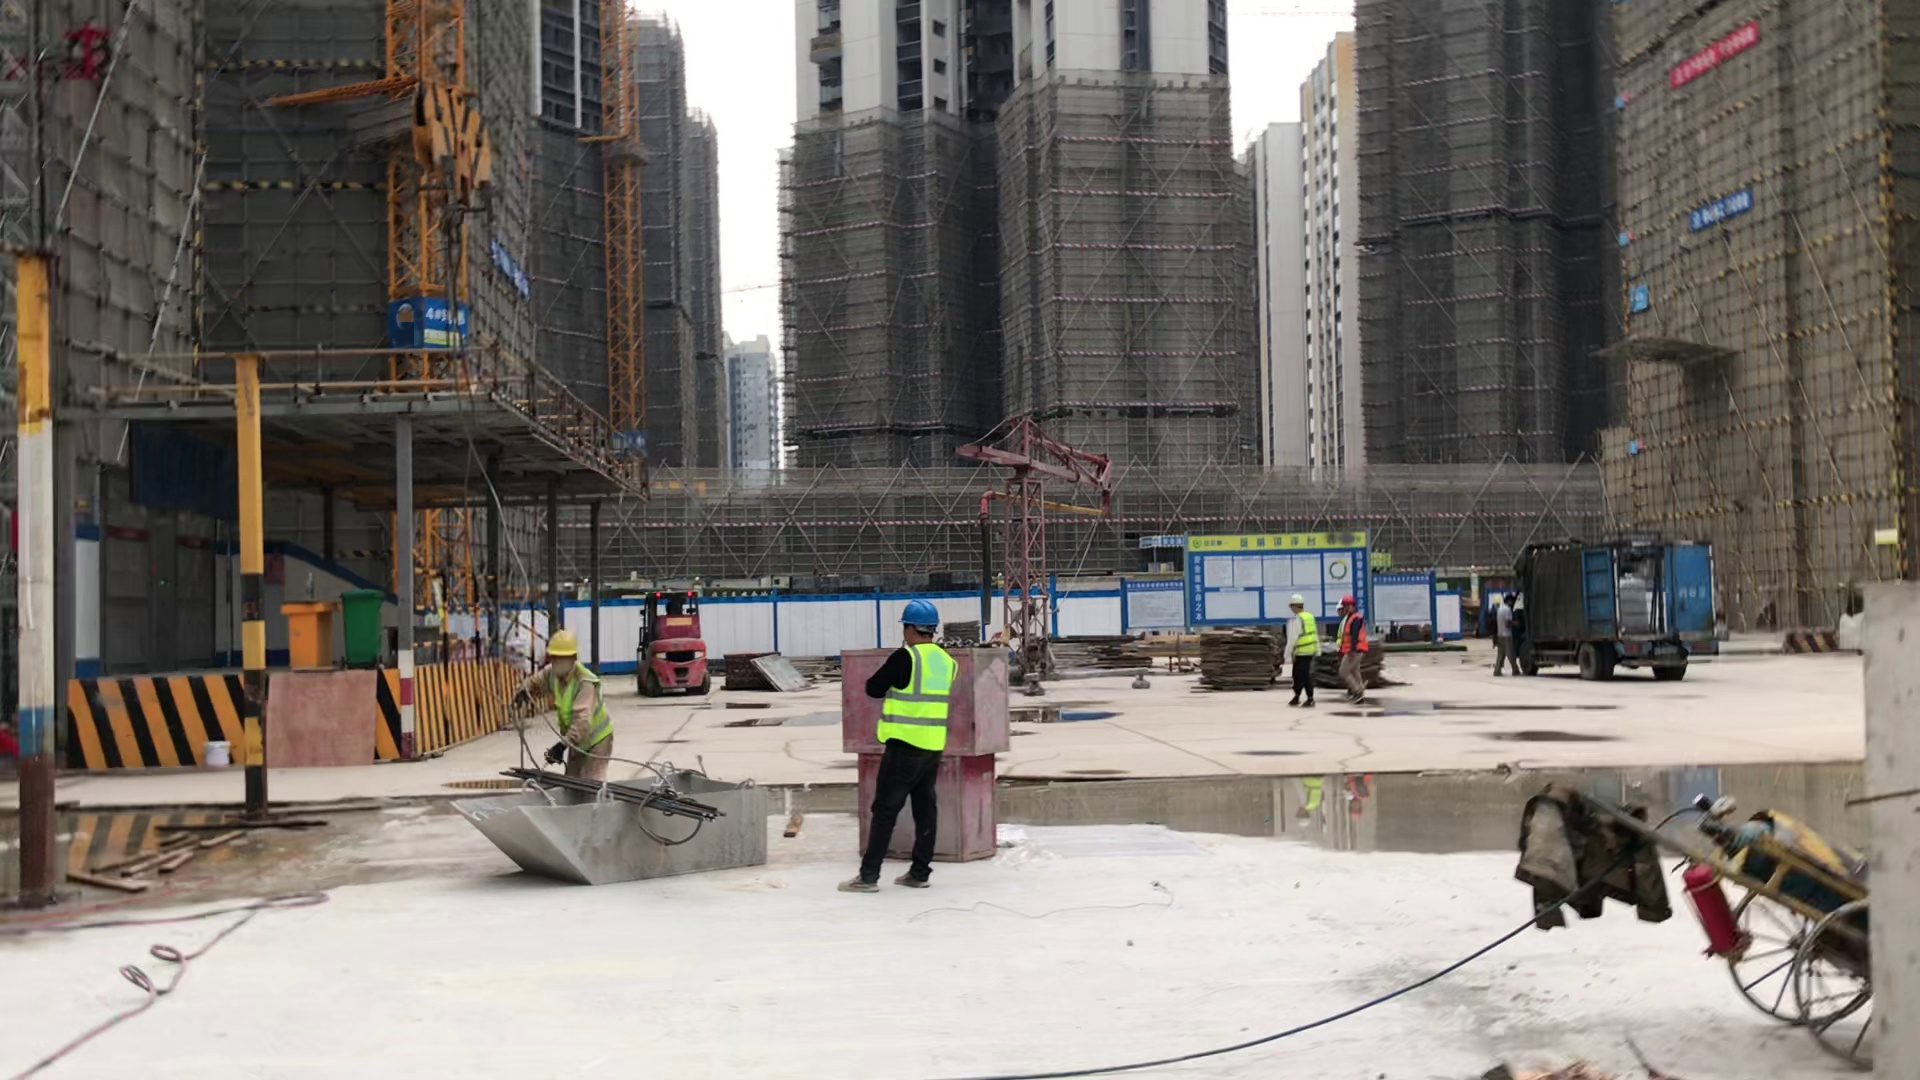board: (1309, 625, 1405, 700), (1192, 624, 1277, 701)
fence: (399, 561, 553, 676)
handcart: (1477, 747, 1898, 1080)
helmet: (892, 588, 954, 630), (539, 622, 589, 662), (1284, 588, 1307, 606), (1331, 594, 1343, 618), (1339, 592, 1358, 607)
hook: (388, 65, 514, 270)
hopper: (404, 764, 807, 896)
person: (832, 587, 978, 907), (505, 616, 646, 804), (1327, 583, 1388, 715), (1275, 577, 1325, 715), (1482, 570, 1538, 691)
rebar: (506, 761, 740, 828)
slogan: (1167, 528, 1380, 642), (1649, 14, 1784, 99), (381, 291, 485, 380), (1680, 172, 1764, 239), (480, 232, 540, 301), (1115, 516, 1188, 562), (602, 415, 658, 466), (1619, 276, 1658, 326)
vest: (528, 658, 628, 772), (875, 642, 960, 768), (1285, 609, 1317, 662), (1336, 610, 1372, 659)
wood: (1112, 627, 1210, 672)
